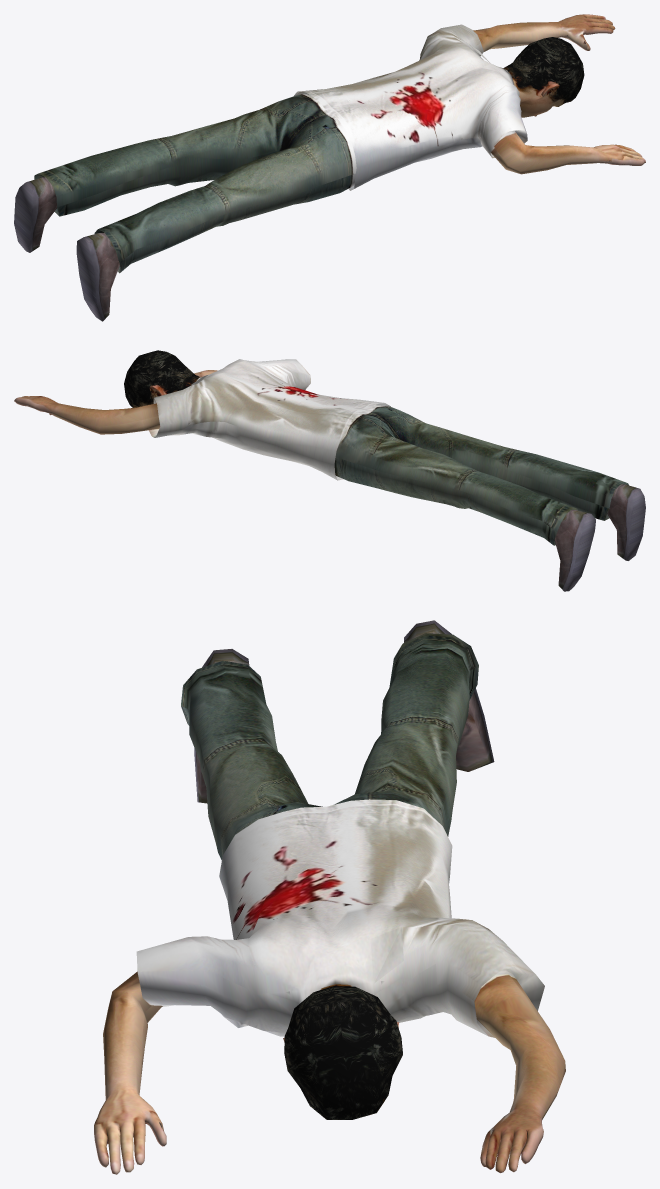
Rendered from siren.FBX.
3 renders of one model, top to bottom at view 1: azimuth 30°, elevation 25°; view 2: azimuth 150°, elevation 25°; view 3: azimuth 270°, elevation 25°, orthographic. The views are drawn at different scales.
Visible parts, largest first — view 1: nanren1:cman0010-tp.Mesh02; view 2: nanren1:cman0010-tp.Mesh02; view 3: nanren1:cman0010-tp.Mesh02.
Boxes of the visible parts, <box> form: nanren1:cman0010-tp.Mesh02: <box>14,14,645,321</box>; nanren1:cman0010-tp.Mesh02: <box>14,350,645,591</box>; nanren1:cman0010-tp.Mesh02: <box>94,620,565,1174</box>.
Bounding box in the file's own units: 15.23 × 3.29 × 5.62.
Materials: 1 (1 with a texture image).
